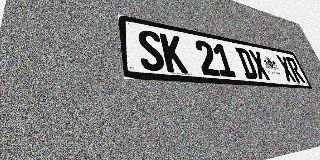1: (210, 42, 236, 77)
2: (194, 39, 220, 76)
D: (235, 47, 259, 79)
K: (159, 33, 188, 74)
R: (285, 56, 306, 83)
S: (136, 28, 166, 72)
X: (248, 49, 271, 80), (276, 55, 297, 82)
